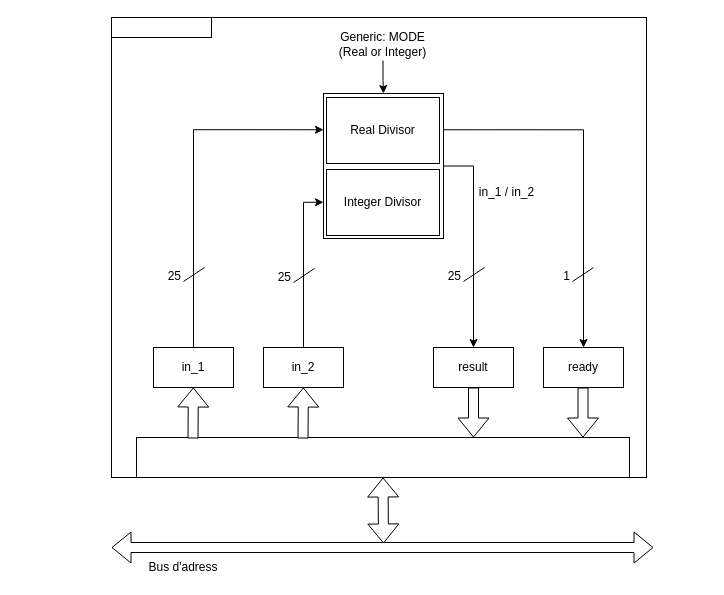
This 724x595 diagram has some shape labels left out. Here are the shapes that lost their labels. From the top down, the box of each, then its label:
(110, 16, 212, 38): Diviseur Optimisé
(136, 436, 630, 478): Bus Interface
